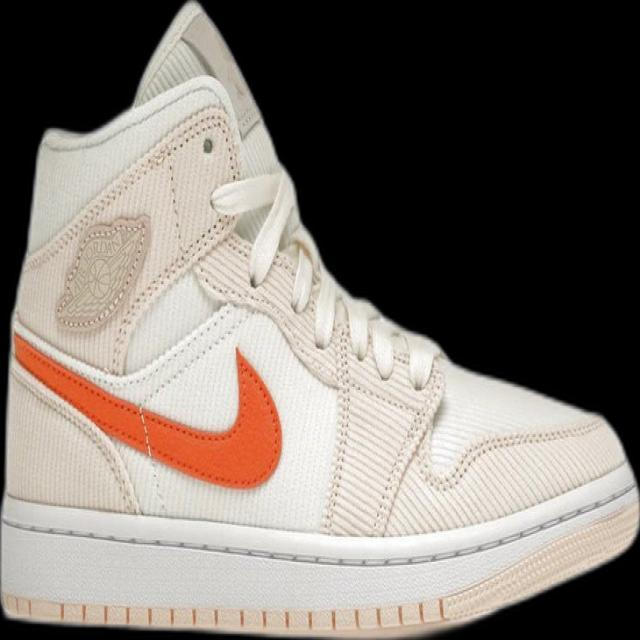J1_InsoleChar: (0, 0, 639, 639)
J1_ShoeLogo: (11, 326, 283, 490), (53, 213, 150, 330)
J1_StitchPattern: (16, 82, 446, 535), (0, 480, 639, 635), (49, 103, 239, 334), (318, 299, 442, 538), (7, 357, 142, 517), (0, 593, 454, 633), (423, 412, 606, 495)
